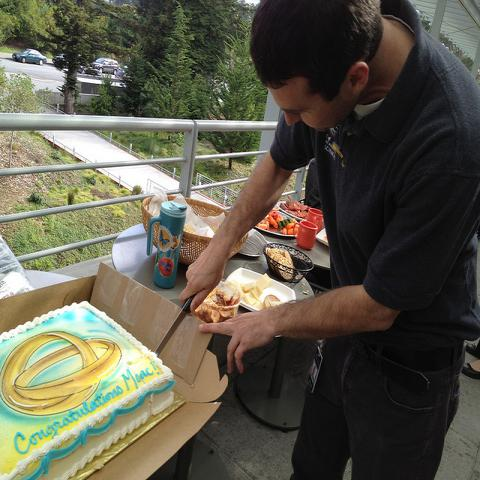car: (13, 48, 47, 66), (92, 58, 119, 74), (76, 66, 104, 76), (52, 53, 66, 65), (115, 70, 126, 78)
